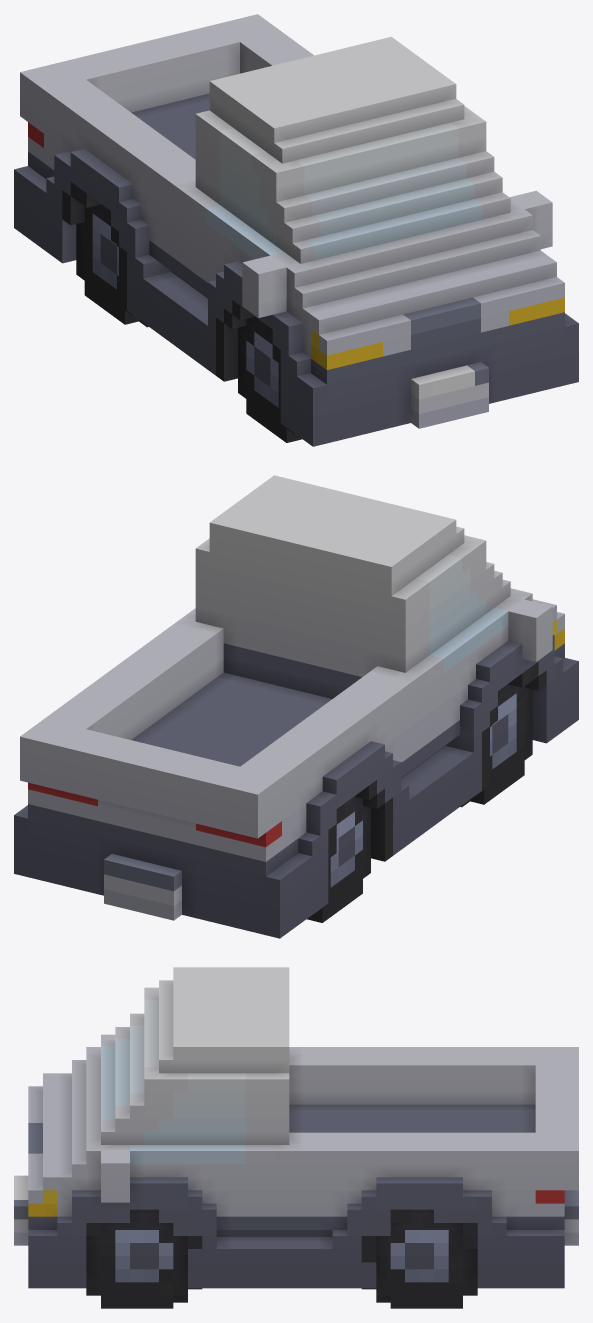
Rendered from truck_flat.glb.
The picture shows the model from 3 angles, top to bottom: view 1: azimuth 30°, elevation 25°; view 2: azimuth 150°, elevation 25°; view 3: azimuth 270°, elevation 25°; orthographic projection. The views are drawn at different scales.
Visible parts, largest first — view 1: voxels; view 2: voxels; view 3: voxels.
Boxes of the visible parts, left/top/right/bottom form: voxels: left=14, top=14, right=578, bottom=446; voxels: left=14, top=475, right=578, bottom=938; voxels: left=14, top=967, right=578, bottom=1308.
Bounding box in the file's own units: 1.52 × 1.37 × 2.82.
